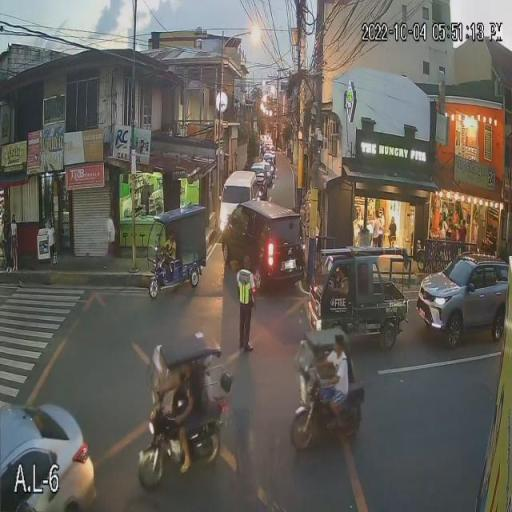motorcycle: (130, 394, 236, 492), (288, 374, 375, 453)
rider: (158, 374, 203, 475), (320, 352, 353, 440)
